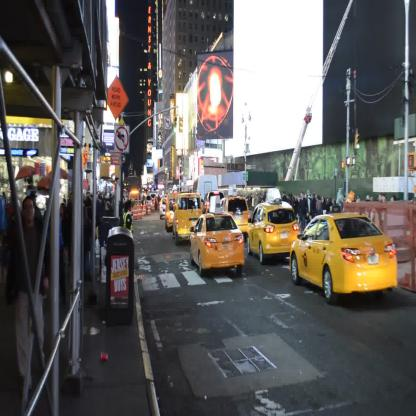car: (290, 213, 398, 300), (189, 214, 244, 278), (248, 201, 300, 263), (173, 193, 203, 246), (220, 196, 250, 242)
